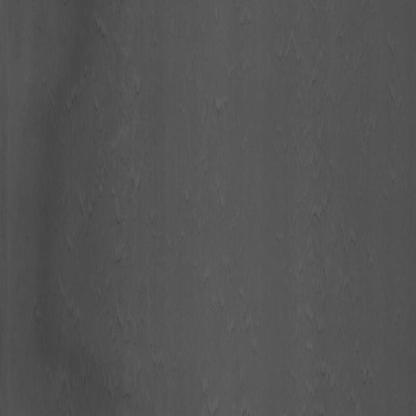silk_spot: (85, 126, 163, 273), (278, 146, 349, 275), (90, 33, 148, 109)
